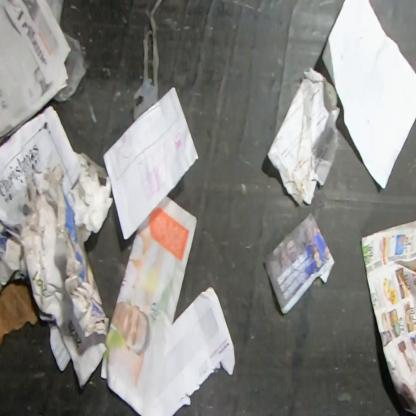cardboard: (0, 280, 42, 348)
soft_plastic: (132, 0, 164, 123), (51, 30, 88, 103)
